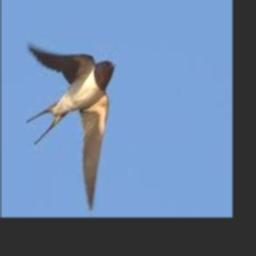Swallow: (25, 44, 115, 212)
